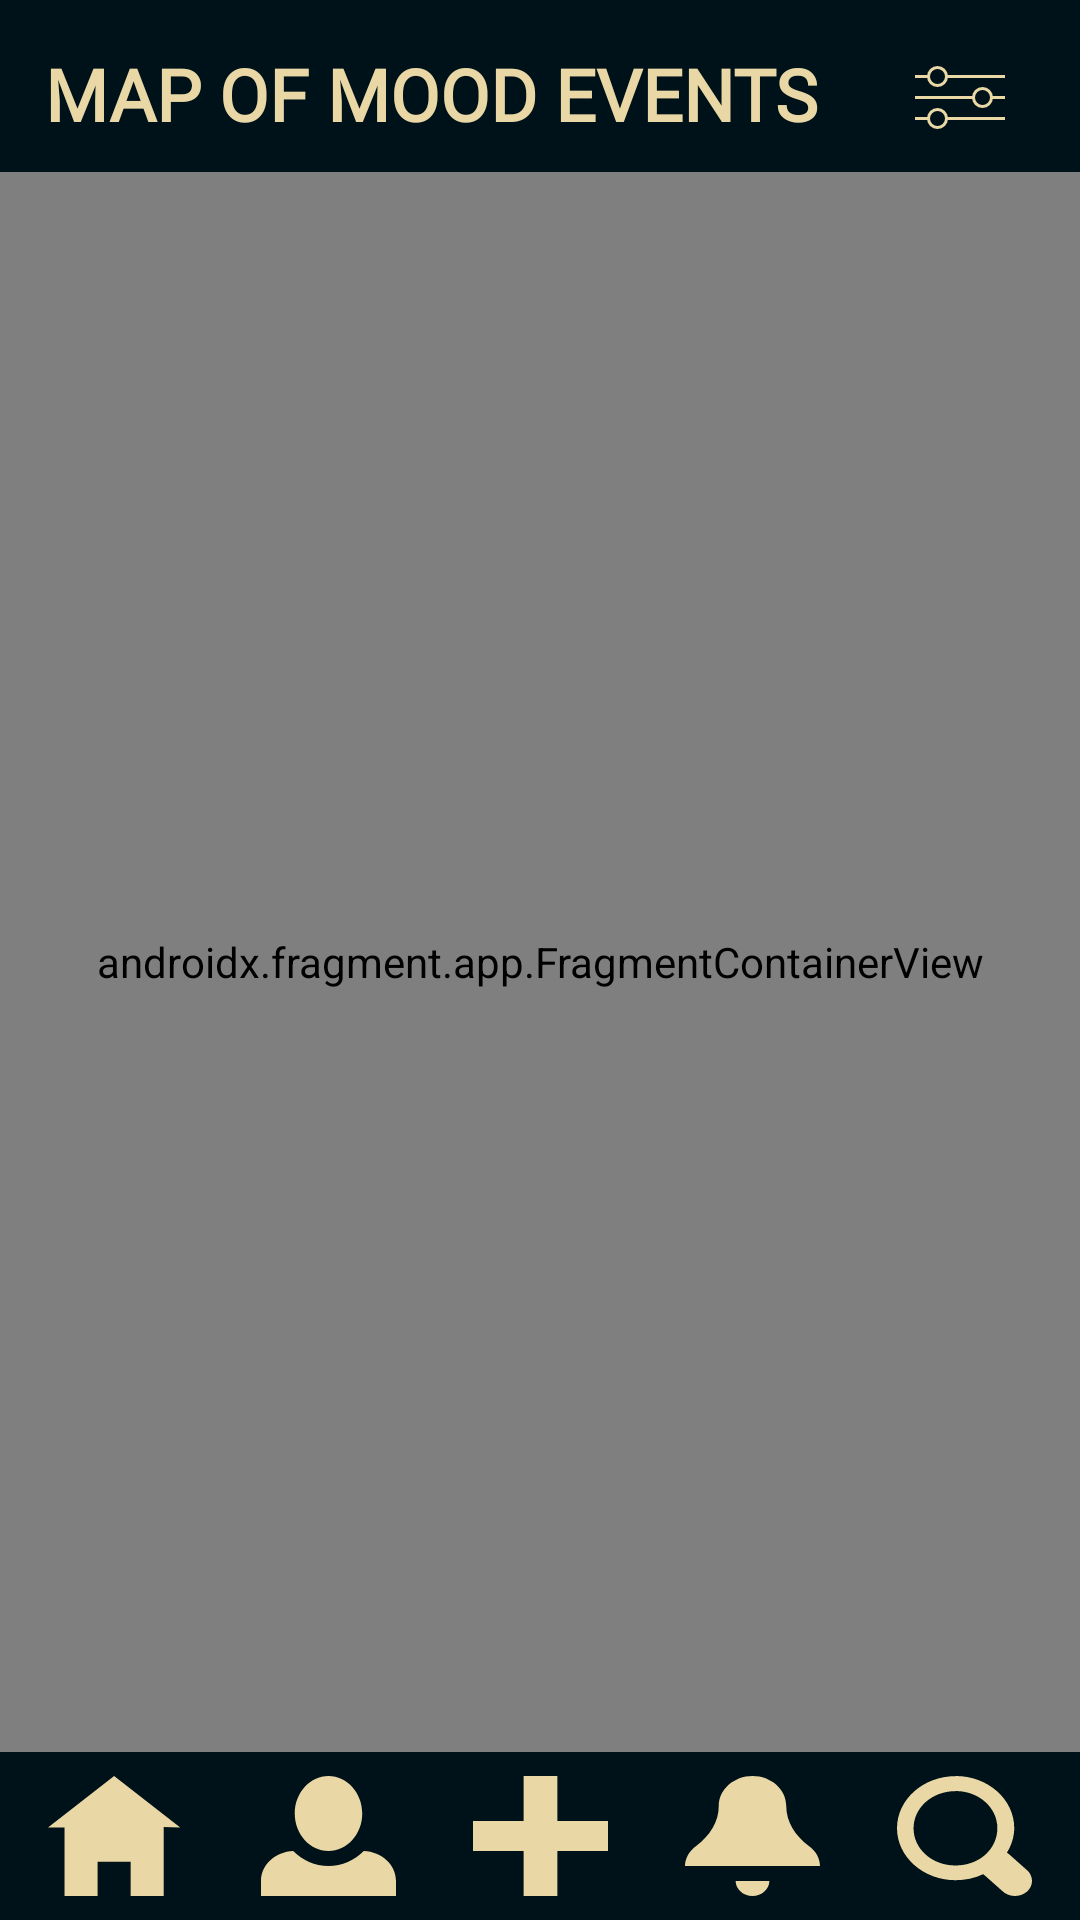

Locate icon controls on the screen. Image size 1080×1920, boxes as (x1, y1, x2, y2).
filter button: (915, 66, 1005, 129)
